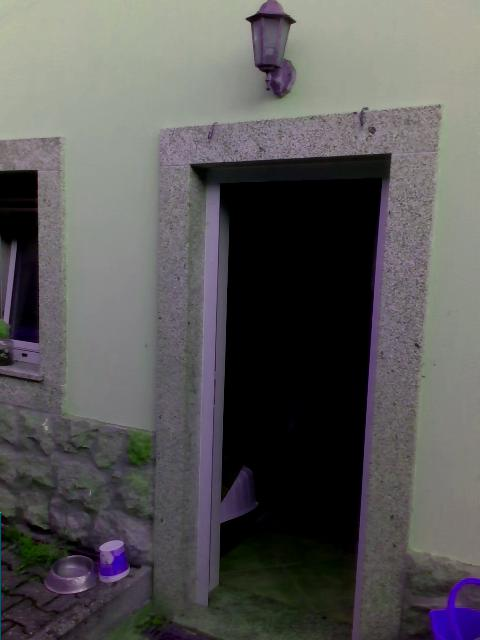open_door: (194, 151, 396, 639)
